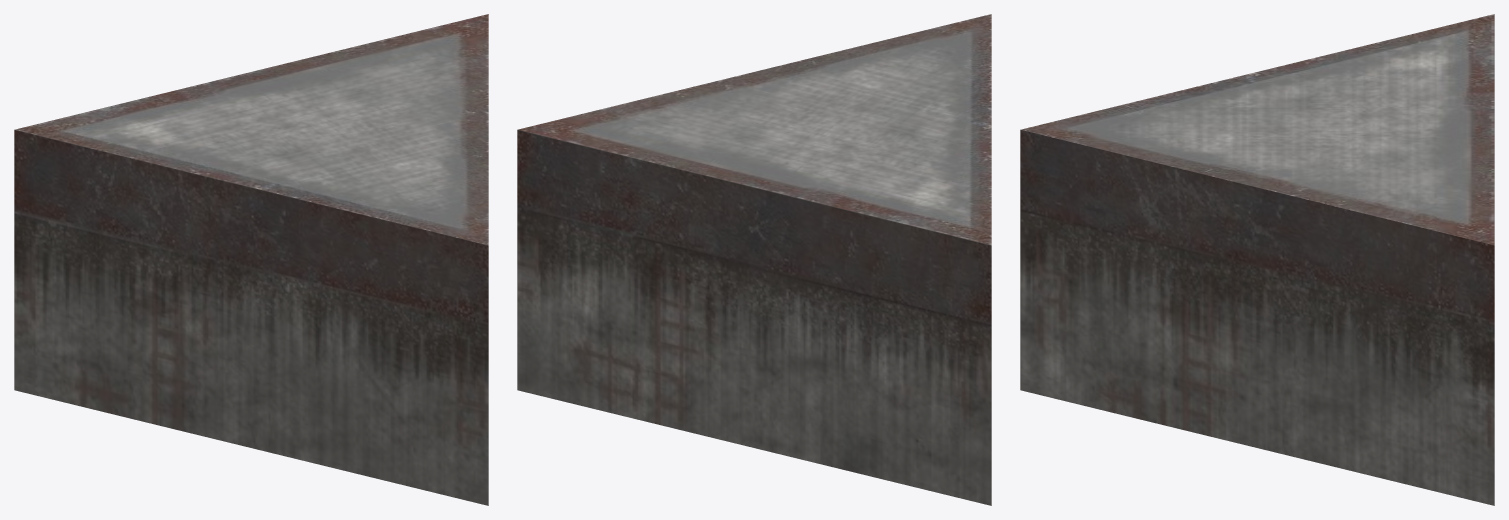
File: armored_foundation_triangle_mid_textured.glb
3 renders of one model, left to right at view 1: azimuth 30°, elevation 25°; view 2: azimuth 150°, elevation 25°; view 3: azimuth 270°, elevation 25°, orthographic.
Parts seen in each view (by area): view 1: Circle; view 2: Circle; view 3: Circle.
Boxes of the visible parts, bbox=[...] form: Circle: bbox=[14, 14, 488, 505]; Circle: bbox=[517, 14, 991, 505]; Circle: bbox=[1020, 14, 1494, 505].
Size of the model in its own units: 2 by 1.05 by 1.73.
Materials: 1 (1 with a texture image).
